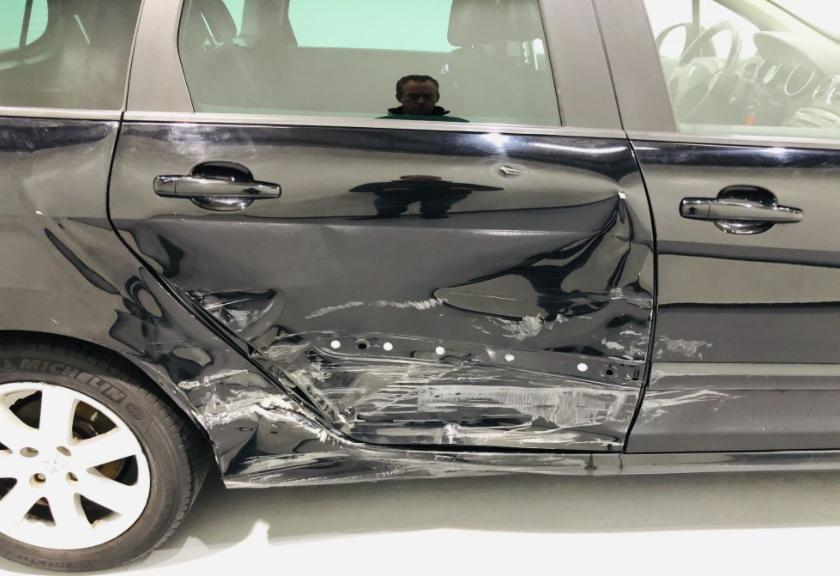Back-door: (108, 0, 657, 453)
Back-wheel: (0, 330, 215, 572)
Back-window: (177, 1, 562, 126), (0, 0, 142, 110)
Front-door: (593, 0, 839, 452)
Front-window: (643, 0, 839, 139)
Quarter-panel: (0, 106, 355, 461)
Rocker-panel: (217, 441, 839, 489)
